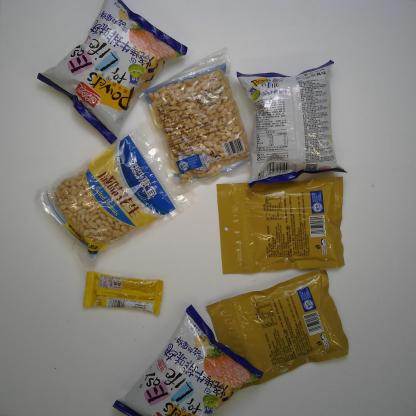Chocolate: (82, 271, 163, 316)
Dried Fruit: (30, 119, 200, 271), (138, 46, 260, 197), (206, 269, 349, 390), (216, 176, 345, 275)
Puffed Food: (36, 0, 188, 145), (111, 304, 263, 416), (236, 59, 348, 189)
